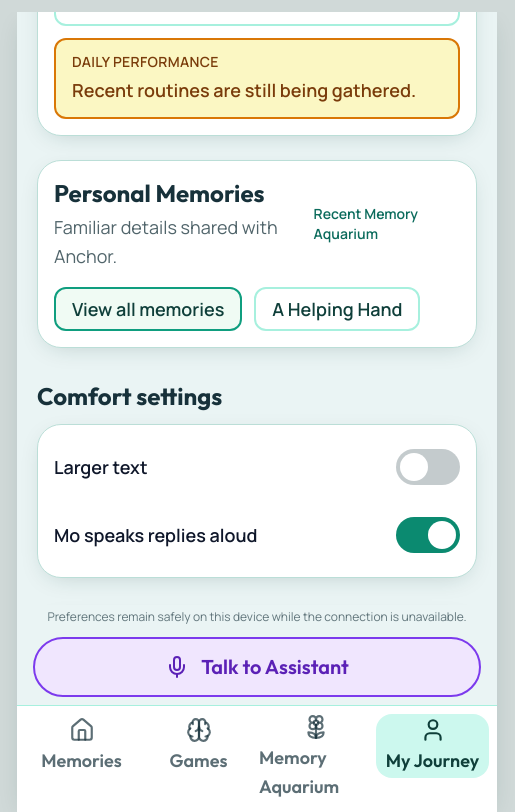
Test: Profile Part 2 connections › opens /memories with the complete stored collection
(page scrolled)
Click the link "View all memories" at (148, 309), box [54, 287, 242, 331]
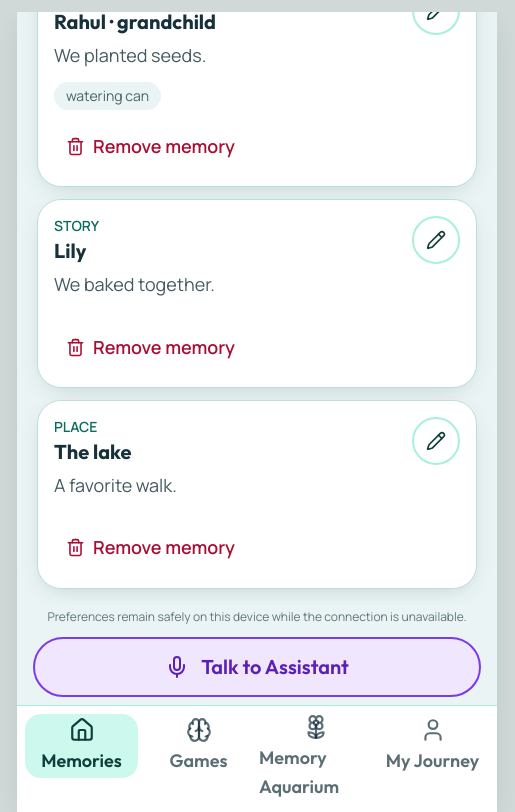
expect the heading "Rahul · grandchild" is shown: met, box [54, 12, 216, 34]
expect the heading "Lily" is shown: met, box [54, 238, 86, 263]
expect the heading "The lake" is shown: met, box [54, 439, 132, 464]
